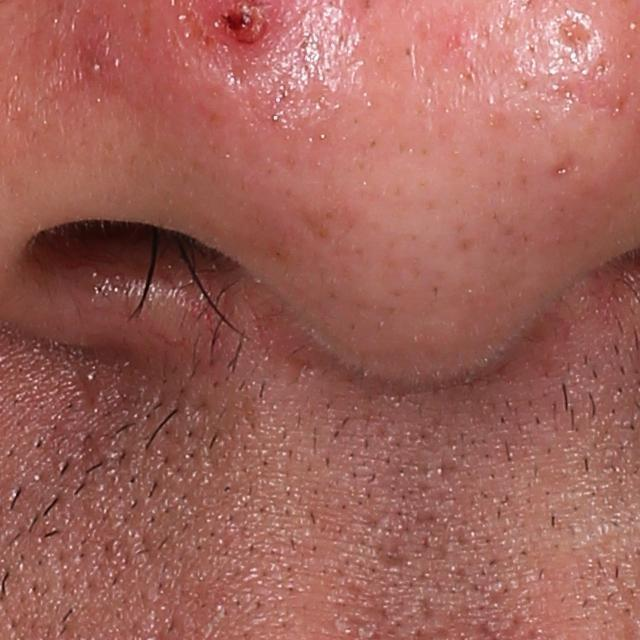atrophic_scar: (554, 15, 589, 55), (549, 146, 579, 180)
